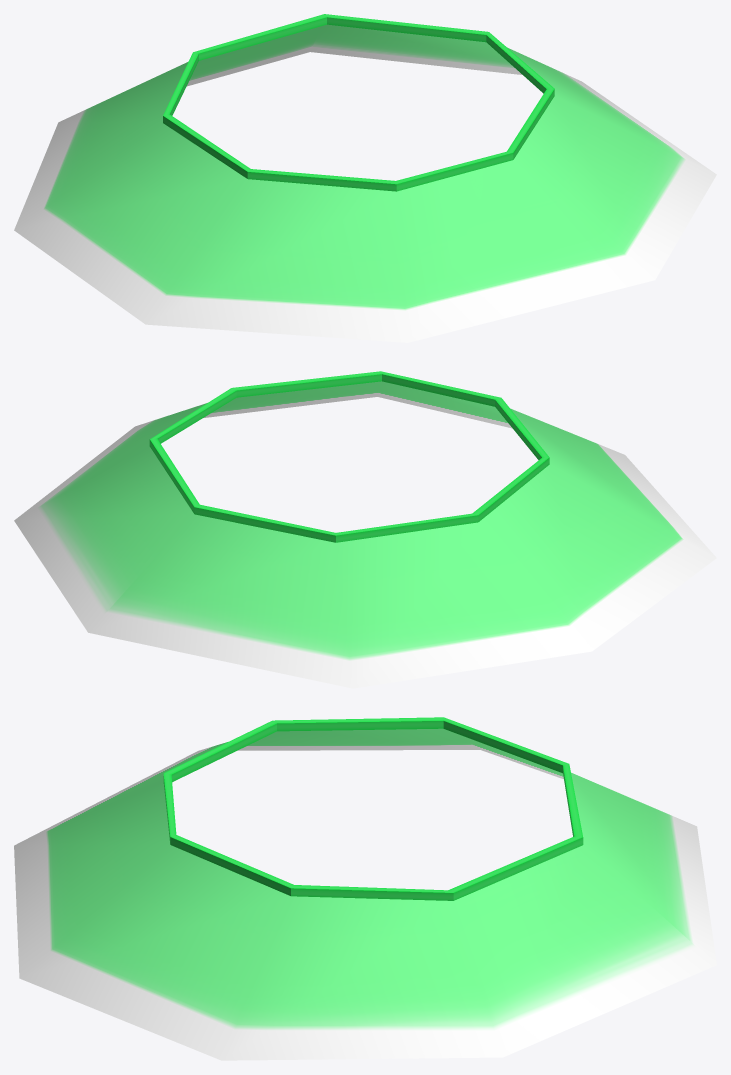
File: disco_table_round_lights.DAE
The picture shows the model from 3 angles, top to bottom: view 1: azimuth 30°, elevation 25°; view 2: azimuth 150°, elevation 25°; view 3: azimuth 270°, elevation 25°; orthographic projection. The views are drawn at different scales.
Visible parts, largest first — view 1: Object02; view 2: Object02; view 3: Object02.
Boxes of the visible parts, x1,y1,x2,y2 form: Object02: [14, 14, 716, 342]; Object02: [14, 371, 716, 688]; Object02: [14, 717, 716, 1060].
Bounding box in the file's own units: 4.26 × 0.6582 × 4.07.
